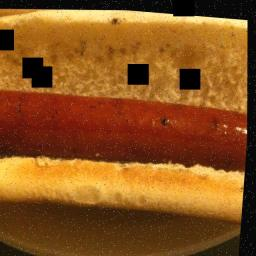hotdog: (0, 84, 251, 182), (0, 77, 163, 137)
